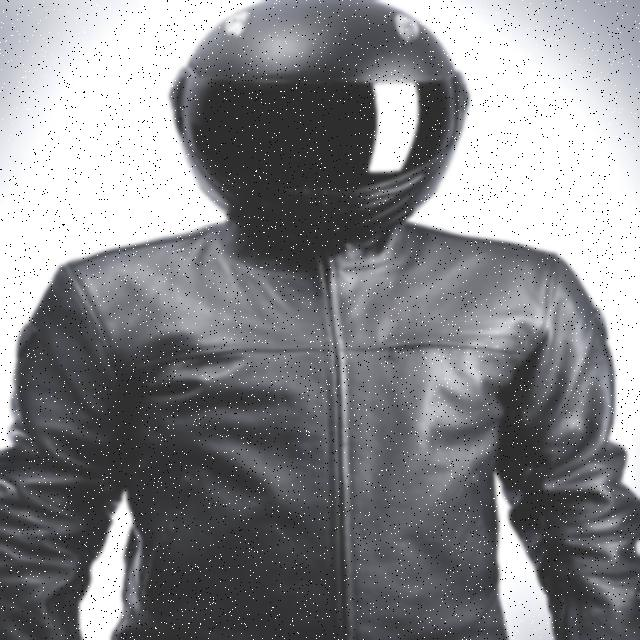with-helmet: (178, 0, 472, 255)
